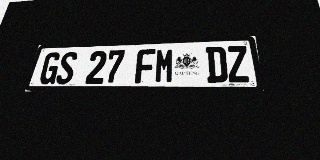2: (85, 50, 108, 84)
7: (103, 50, 125, 84)
D: (206, 46, 228, 83)
F: (135, 49, 155, 83)
G: (38, 52, 62, 84)
M: (154, 48, 174, 83)
S: (55, 52, 78, 84)
Z: (226, 46, 251, 83)
